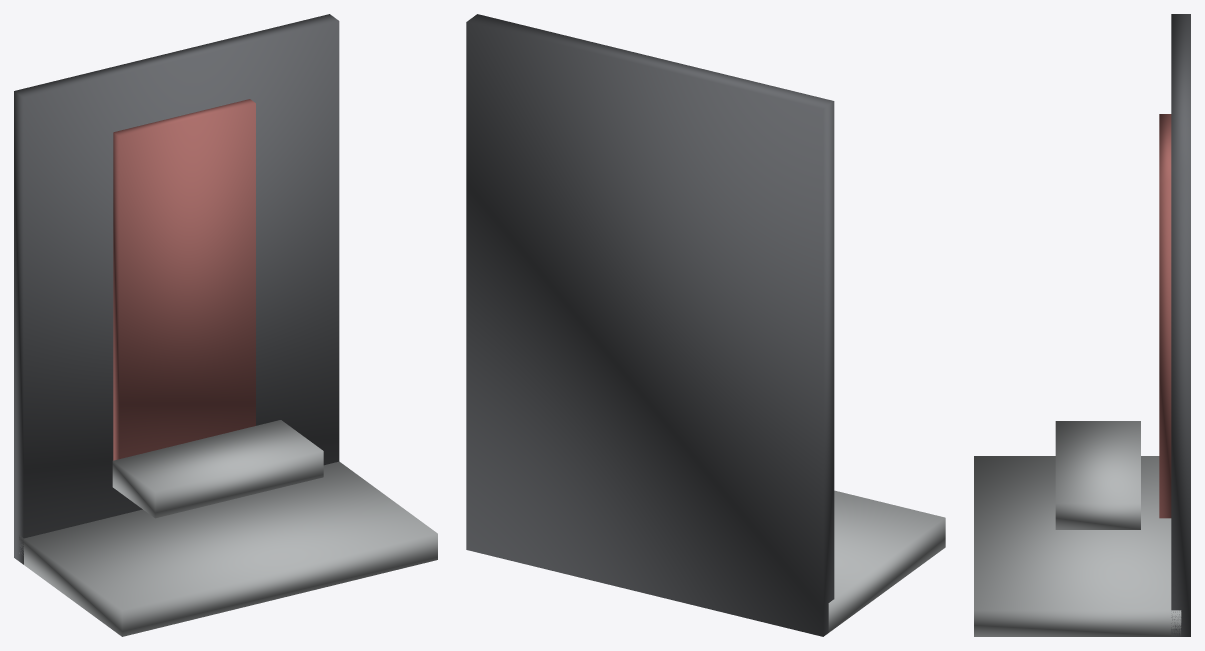
The model's file is roof_access_hatch_stair_07.glb.
3 views of the same model, side by side, from view 1: azimuth 30°, elevation 25°; view 2: azimuth 150°, elevation 25°; view 3: azimuth 270°, elevation 25° (orthographic). The views are drawn at different scales.
Visible parts, largest first — view 1: world; view 2: world; view 3: world.
Part boxes in pixels (x1,y1,x2,y2): world: (14,14,437,636); world: (466,14,945,636); world: (974,14,1190,636).
Bounding box in the file's own units: 1.5 × 2.12 × 0.89.
